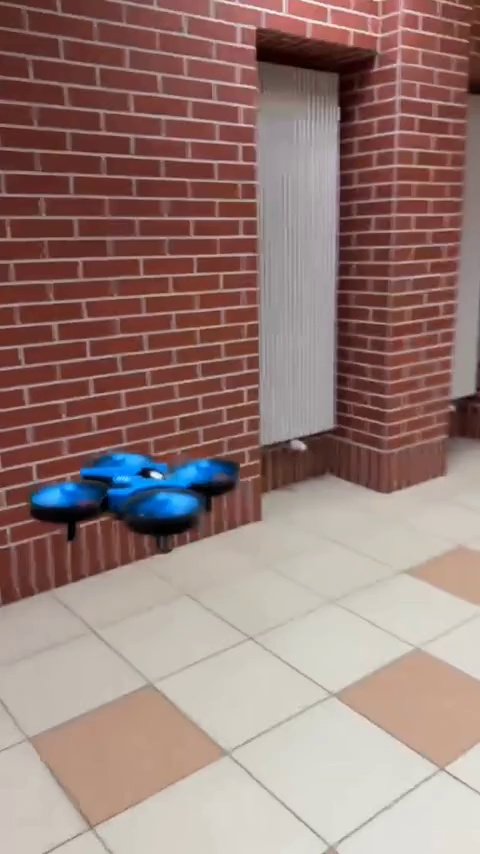drone: (30, 455, 243, 542)
